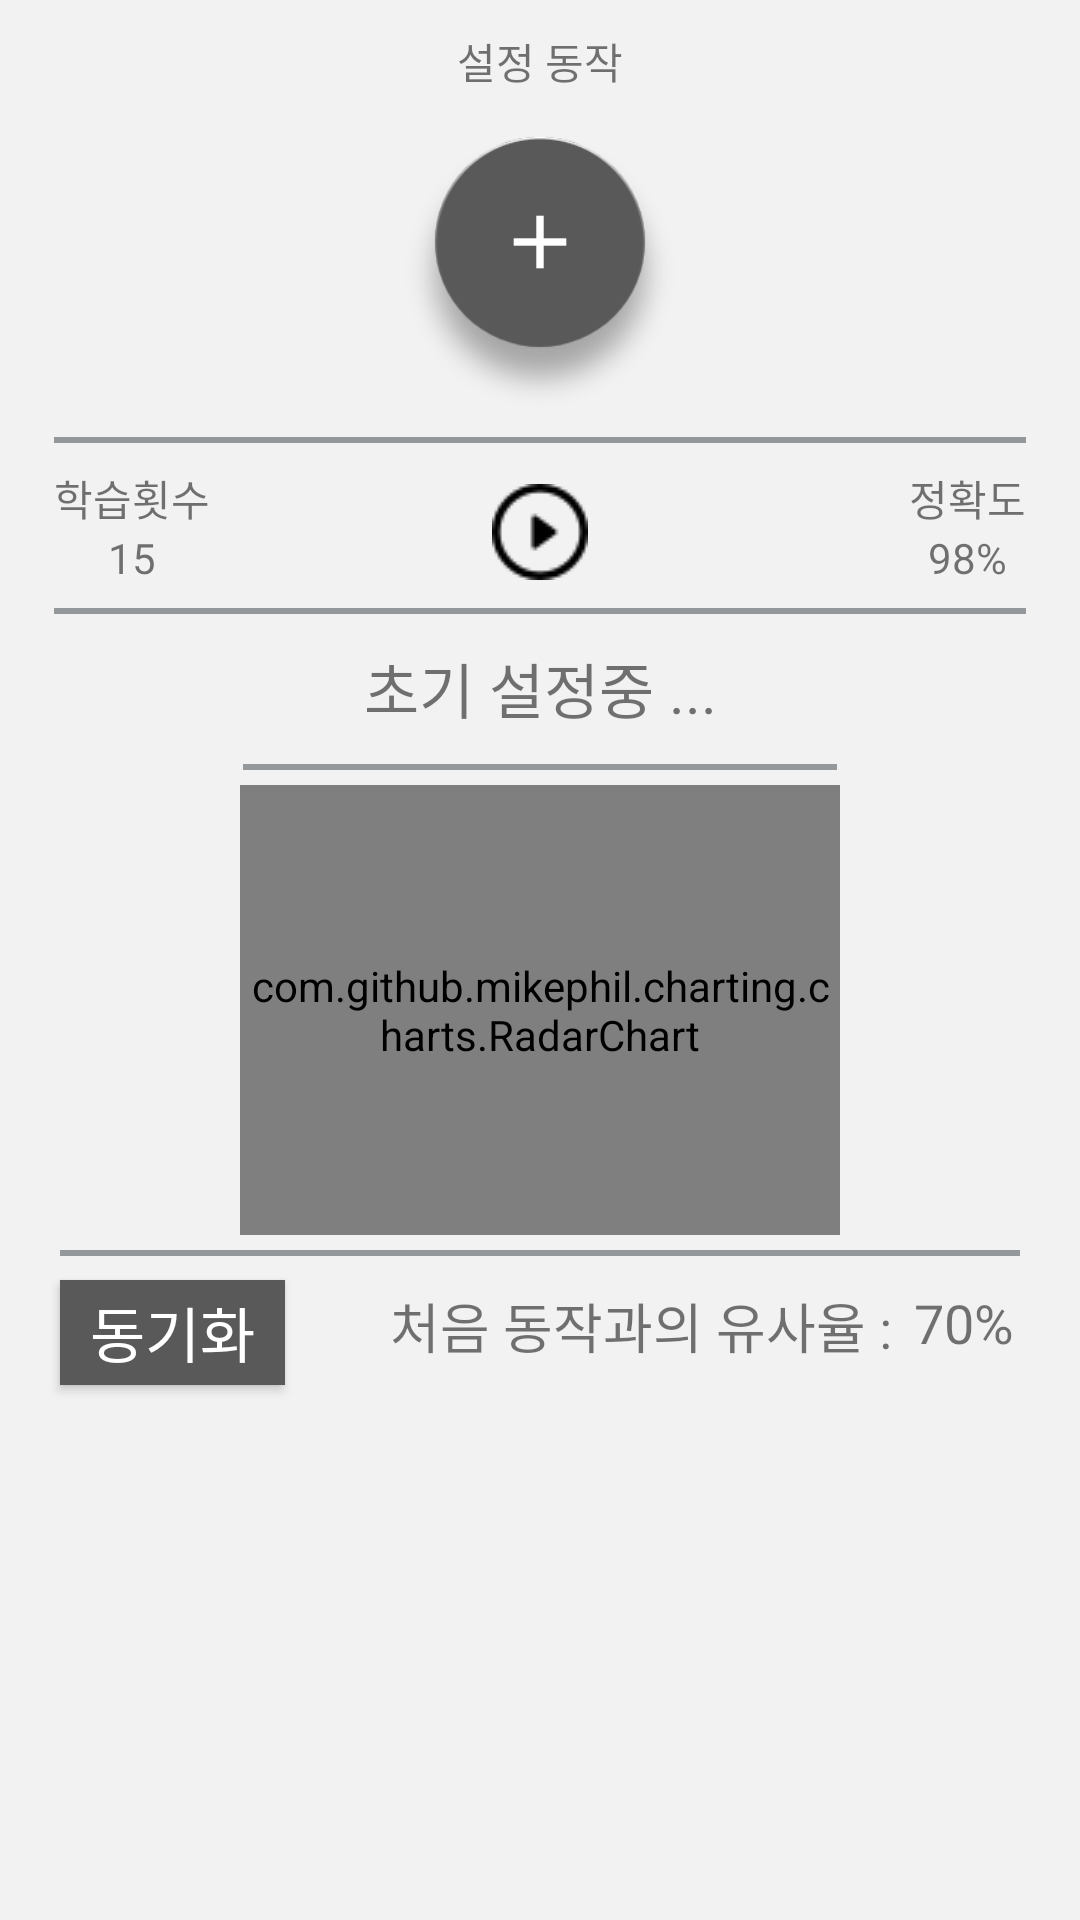

Icons on this 1080w x 1920h Android screen, each with the point to tap as (x=x, y=y):
play: (x=540, y=532)
plus: (x=540, y=260)
